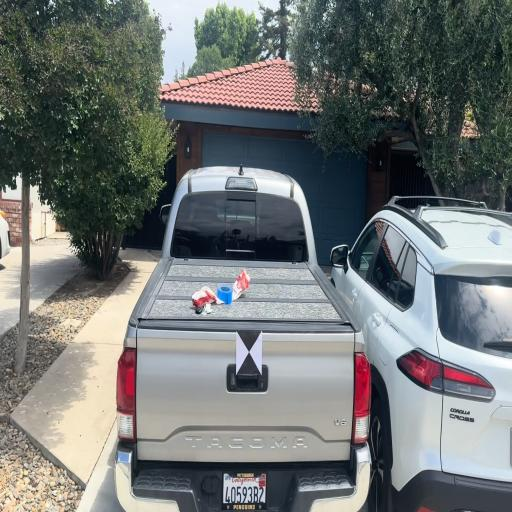target: (236, 331, 262, 375)
